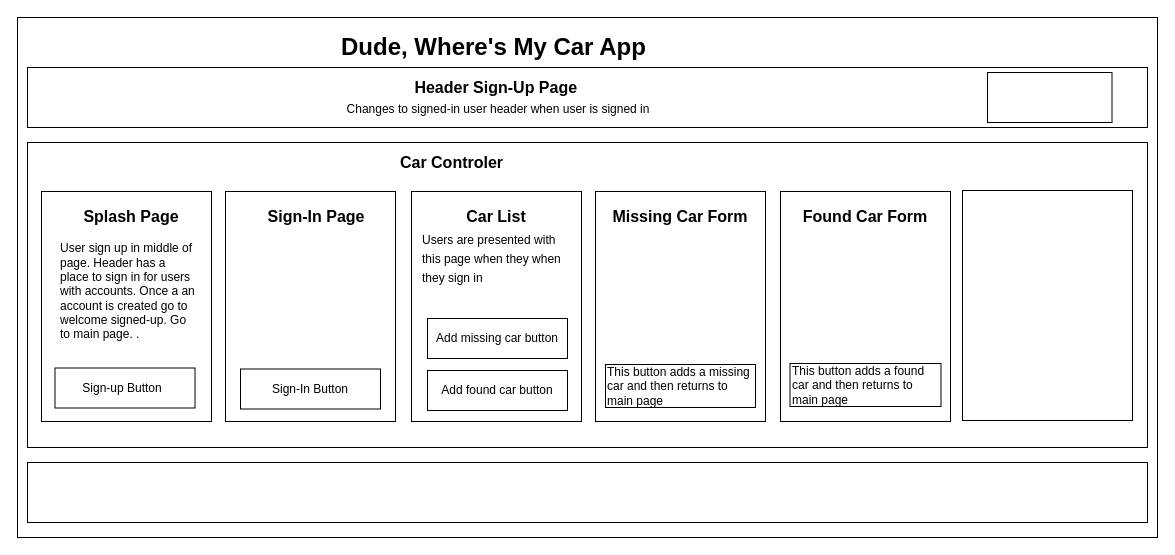
The diagram is 1175 pixels wide and 555 high, and some of its shapes have lost their labels. The box of each missing label's shape, as (x1, y1, x2, y2) in pixels:
Car Detail: (962, 190, 1132, 420)
Footer: (26, 462, 1148, 522)
Sign-In Button (Changes to sign-out button when signed-in: (986, 72, 1112, 122)
